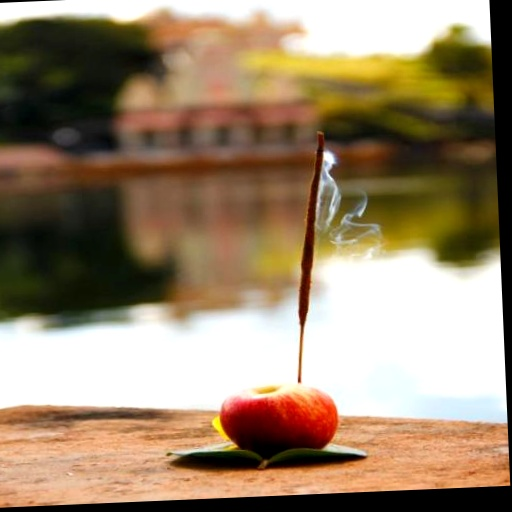fruit: (221, 383, 337, 458)
